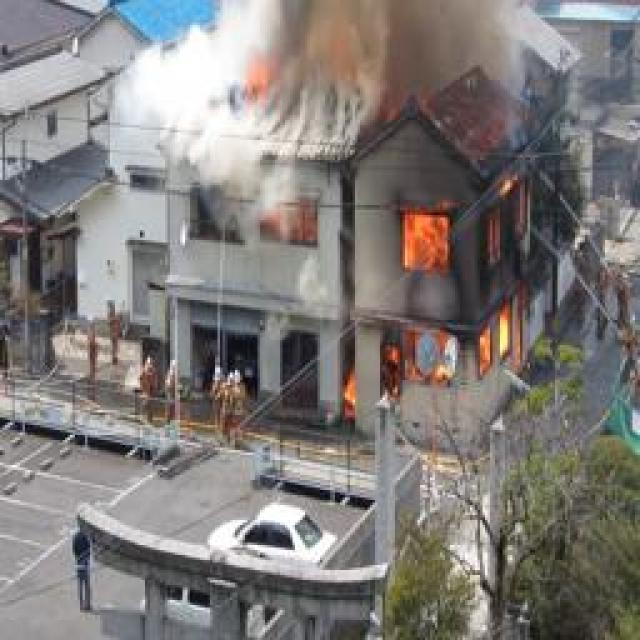Fire: (323, 166, 555, 416)
